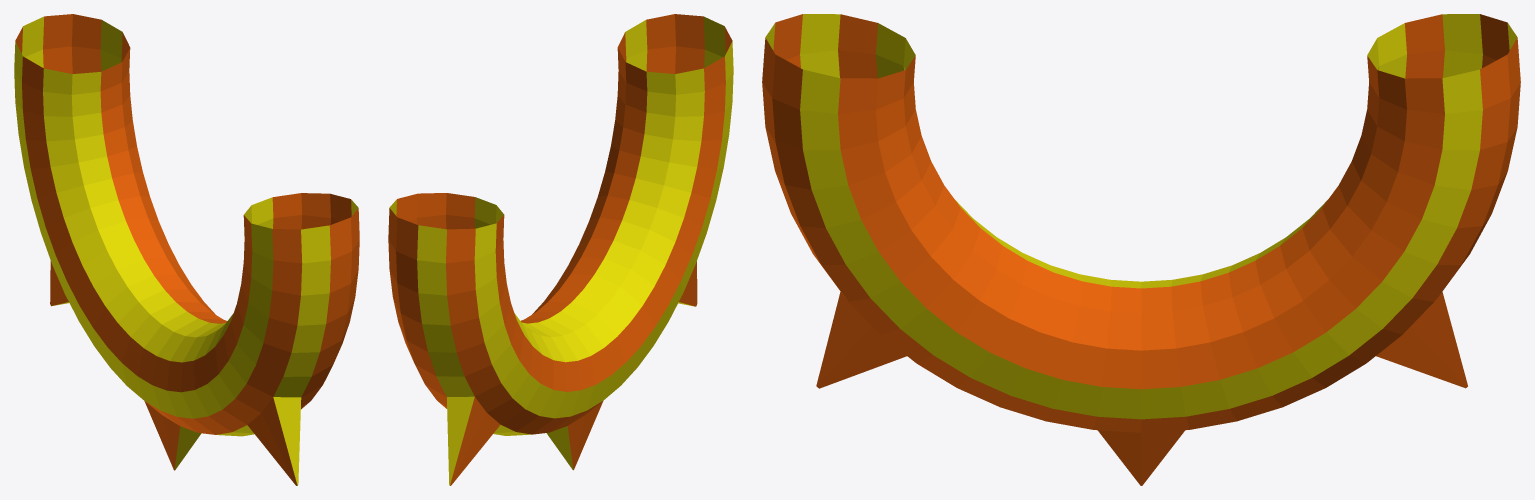
File: engel.fbx
The picture shows the model from 3 angles, left to right: view 1: azimuth 30°, elevation 25°; view 2: azimuth 150°, elevation 25°; view 3: azimuth 270°, elevation 25°; orthographic projection. The views are drawn at different scales.
Parts seen in each view (by area): view 1: Torus; view 2: Torus; view 3: Torus.
Boxes of the visible parts, x1=… form: Torus: x1=14, y1=14, x2=359, y2=485; Torus: x1=388, y1=14, x2=733, y2=485; Torus: x1=762, y1=14, x2=1520, y2=485.
Size of the model in its own units: 48.01 by 159 by 240.
